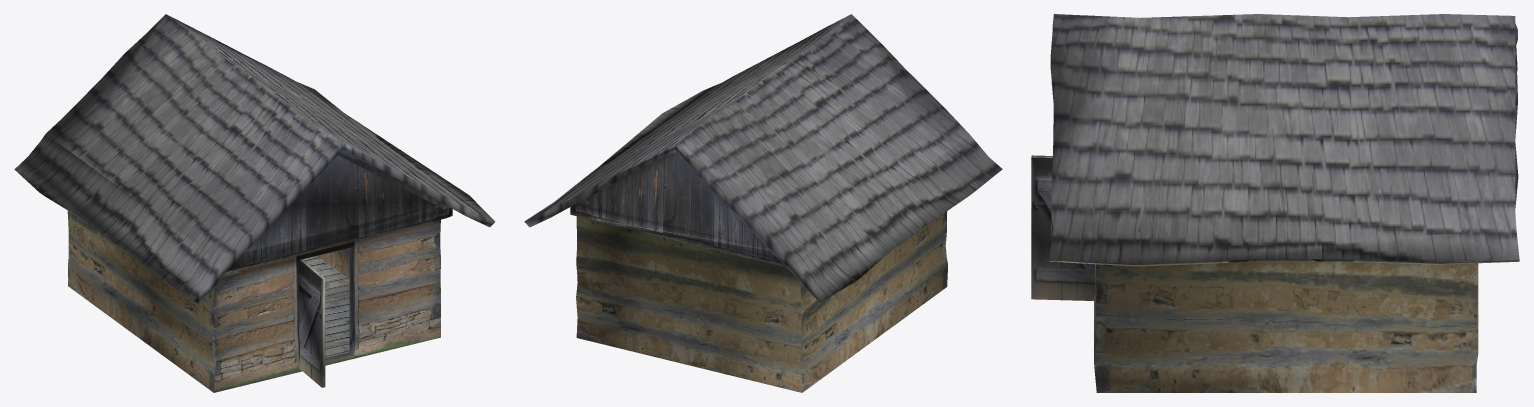
The model's file is hut1_opendoor.fbx.
The picture shows the model from 3 angles, left to right: view 1: azimuth 30°, elevation 25°; view 2: azimuth 150°, elevation 25°; view 3: azimuth 270°, elevation 25°; orthographic projection. The views are drawn at different scales.
Visible parts, largest first — view 1: U3DMesh; view 2: U3DMesh; view 3: U3DMesh.
Boxes of the visible parts, x1=… form: U3DMesh: x1=14, y1=14, x2=495, y2=392; U3DMesh: x1=524, y1=14, x2=1002, y2=392; U3DMesh: x1=1031, y1=14, x2=1519, y2=392.
Bounding box in the file's own units: 13.47 × 9.64 × 13.91.
1 material, 1 textured.
